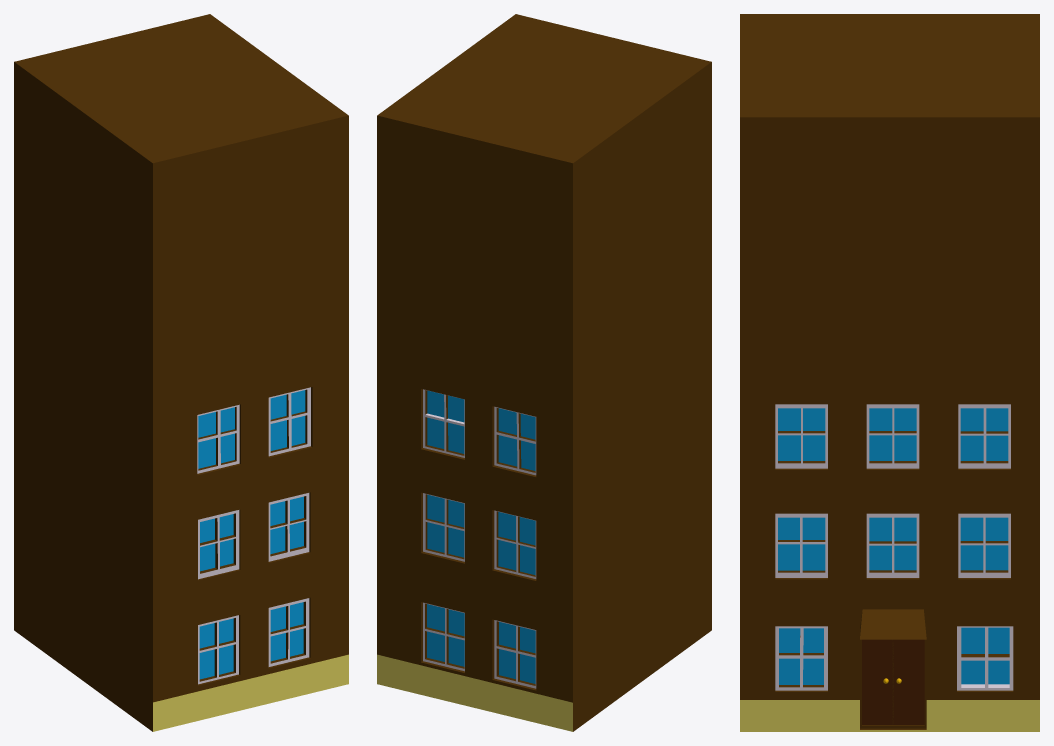
The model's file is High Rise 9 Brown.fbx.
3 views of the same model, side by side, from view 1: azimuth 30°, elevation 25°; view 2: azimuth 150°, elevation 25°; view 3: azimuth 270°, elevation 25° (orthographic). The views are drawn at different scales.
Visible parts, largest first — view 1: Cube; view 2: Cube; view 3: Cube.
Part boxes in pixels (x1,y1,x2,y2): Cube: [14, 14, 348, 731]; Cube: [377, 14, 711, 731]; Cube: [740, 14, 1039, 731].
Bounding box in the file's own units: 314 × 791 × 350.
